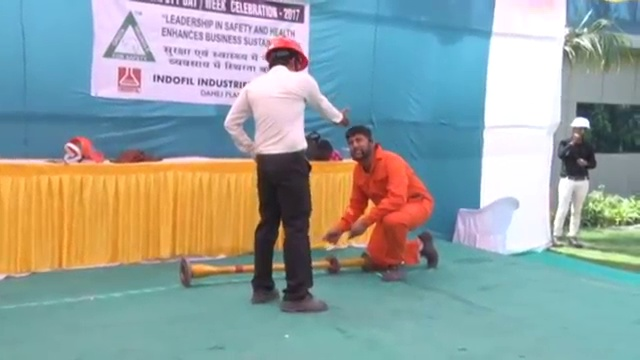helmet: (264, 34, 310, 70), (569, 115, 591, 130)
helmet_off: (345, 124, 373, 160)
helmet_on: (263, 33, 311, 77), (567, 113, 592, 142)
person: (222, 33, 347, 318), (321, 125, 440, 286), (553, 114, 594, 248)
